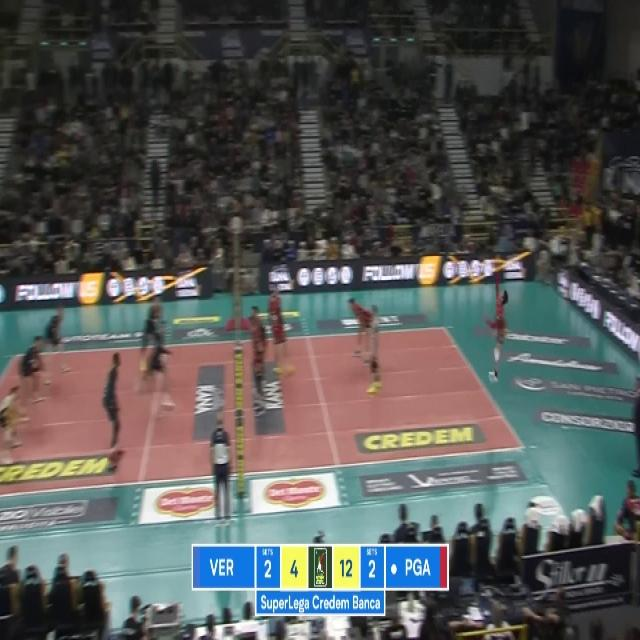volleyball court: (1, 321, 525, 495)
